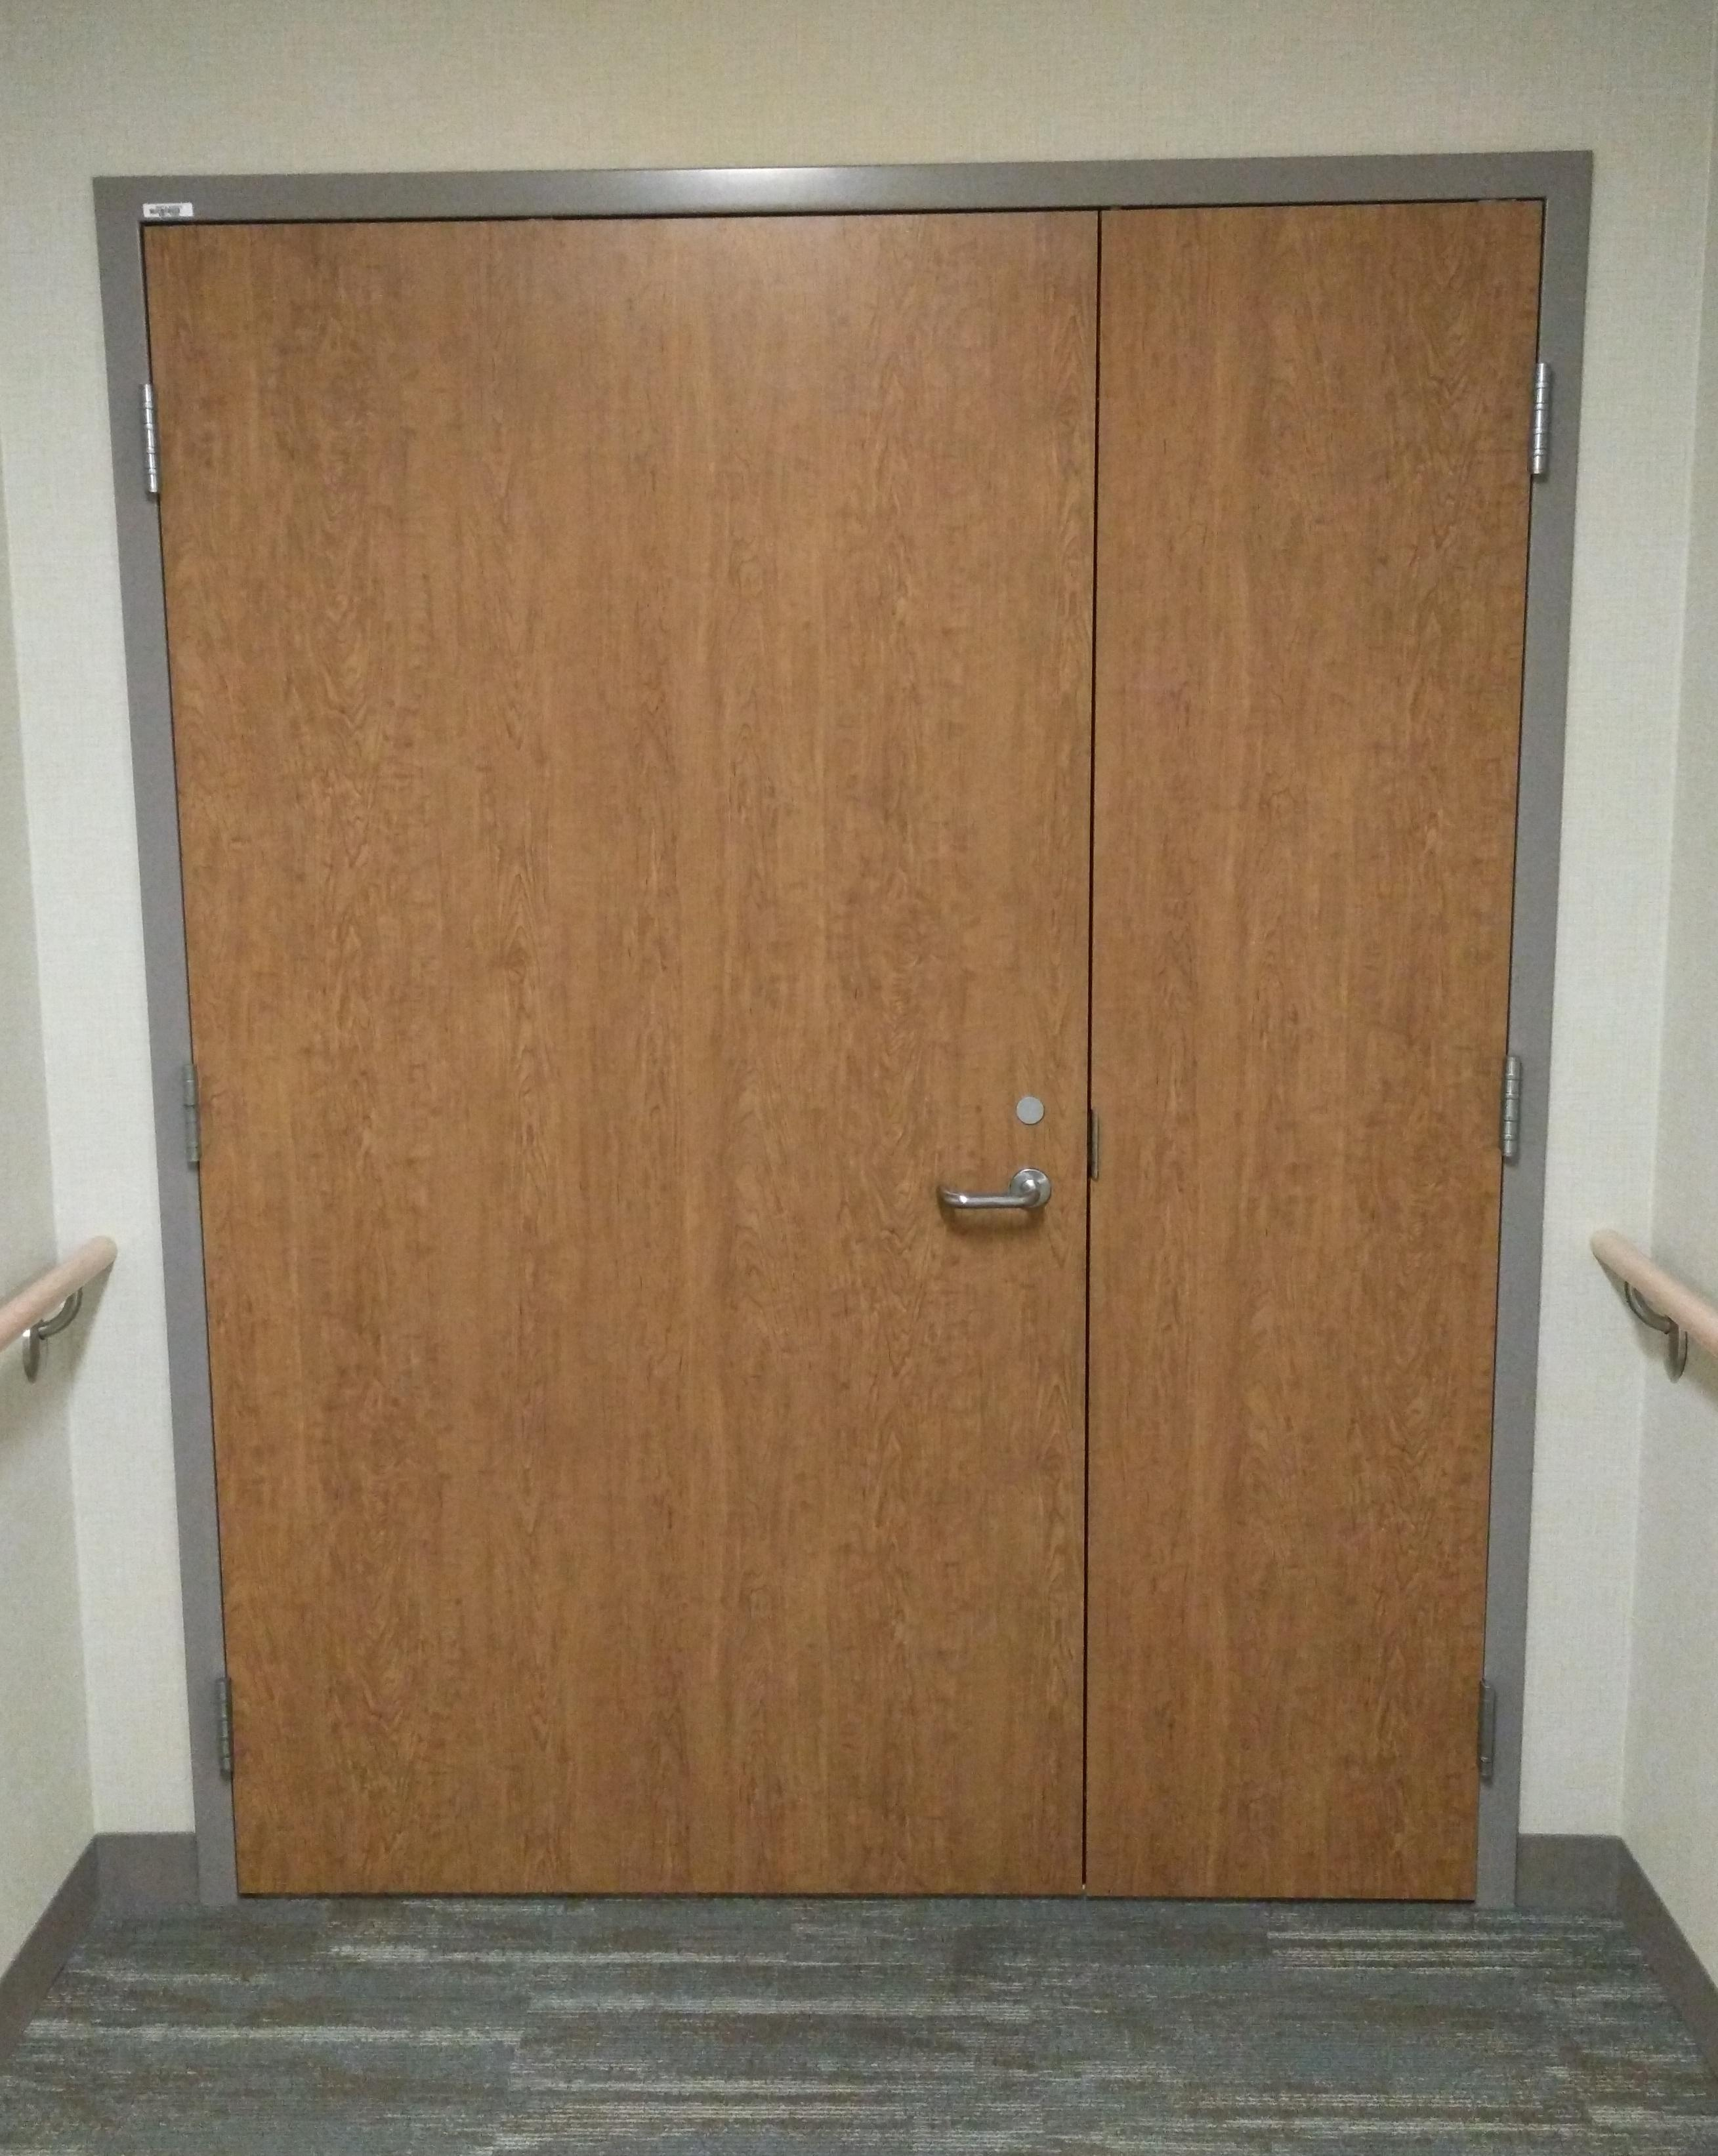door: (100, 196, 1110, 1933)
